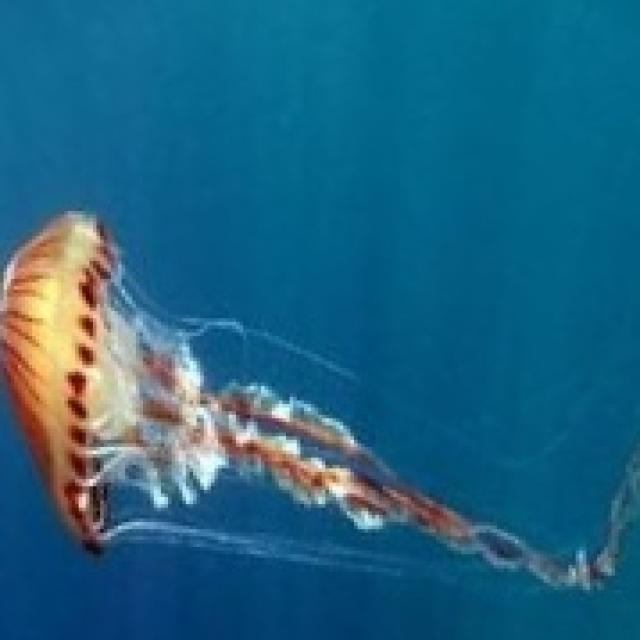Box-jellyfish: (0, 204, 637, 593)
